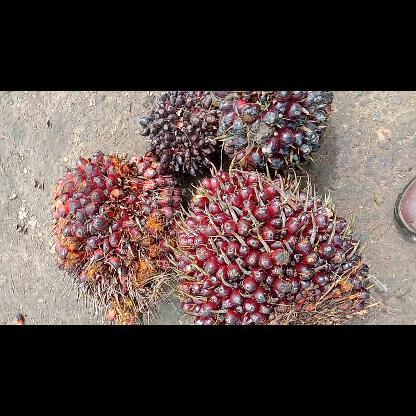Kurang masak: (172, 170, 372, 324), (216, 90, 334, 174)
TBS abnormal: (136, 90, 230, 180)
TBS masak: (46, 148, 184, 324)
